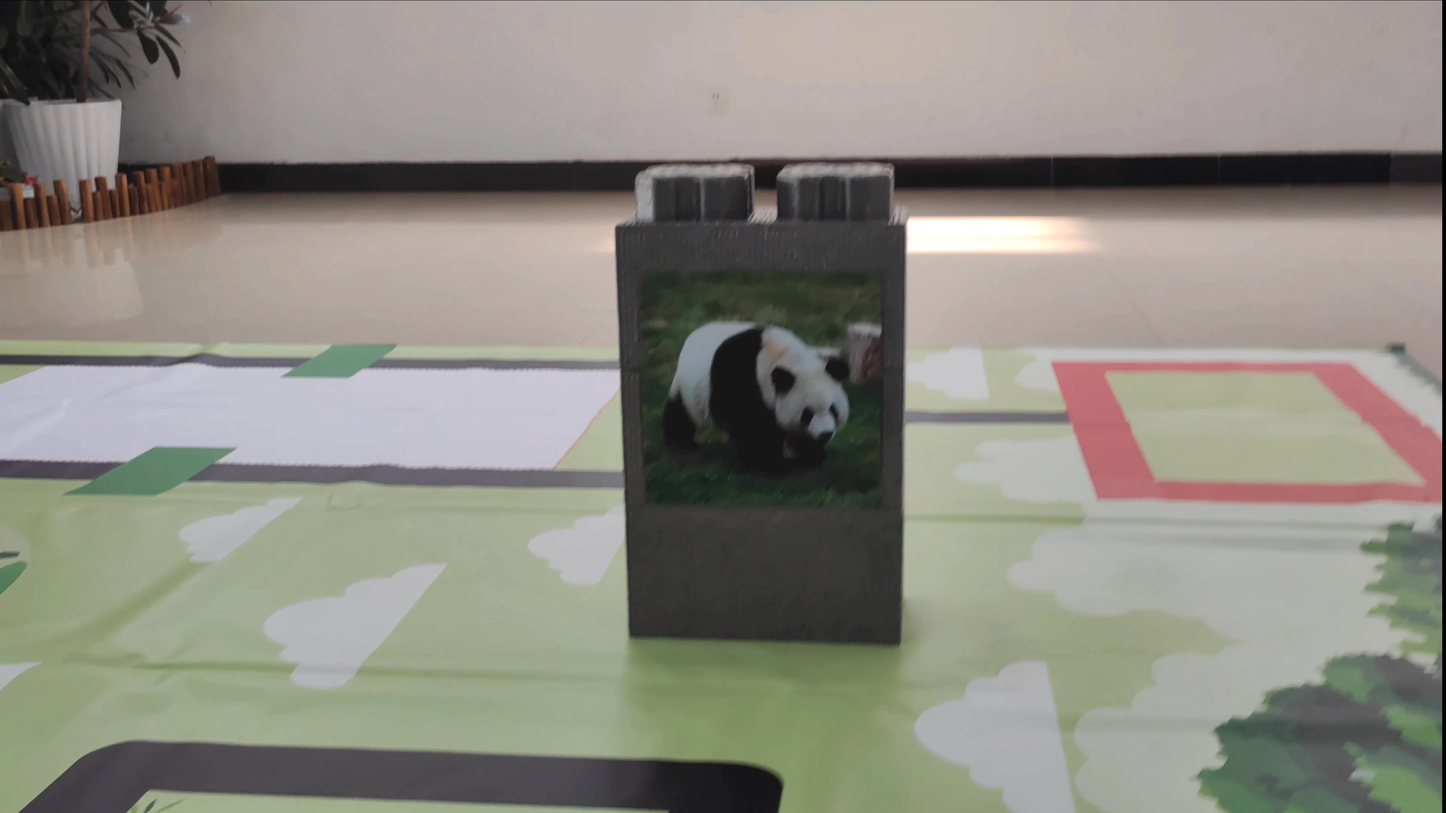panda: (646, 305, 888, 502)
